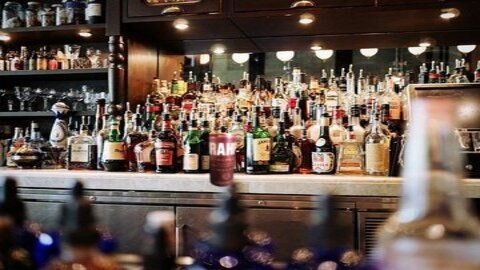duplo_malte: (206, 131, 240, 188)
